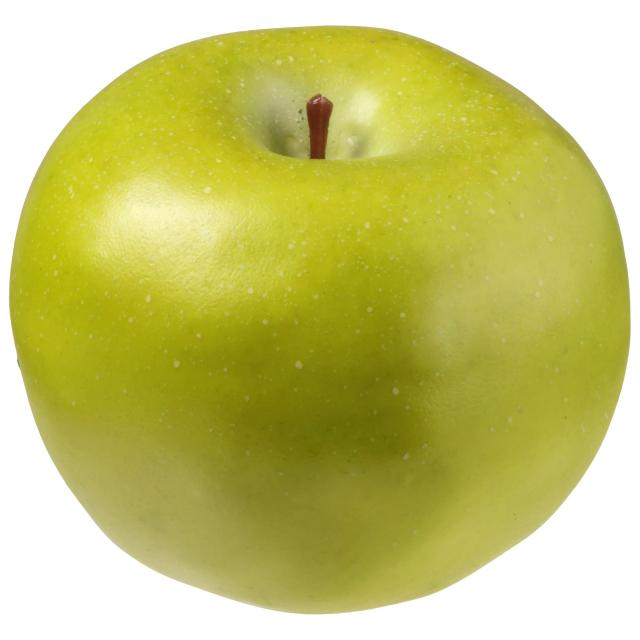Apple: (11, 23, 627, 614)
